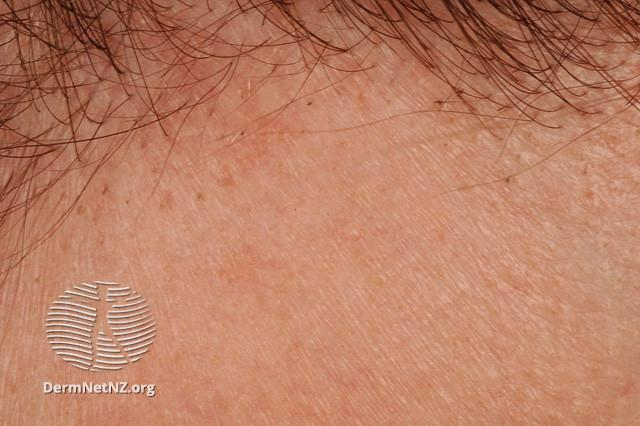Alopecia Areata: (150, 125, 622, 327)
